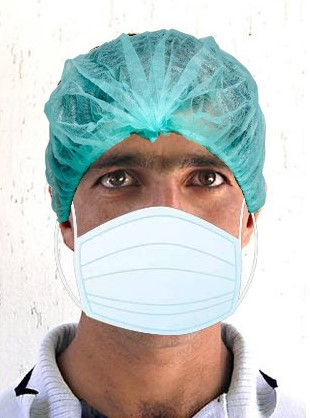with_mask_and_cap: (48, 32, 259, 337)
